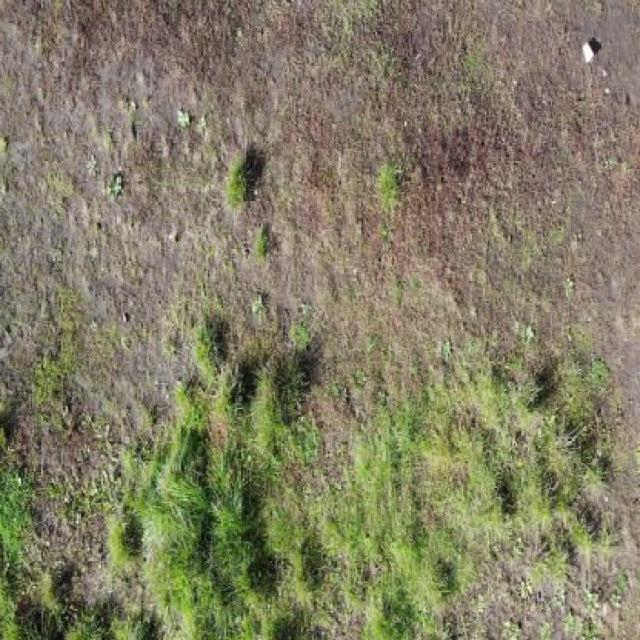Garbage: (581, 40, 596, 66)
